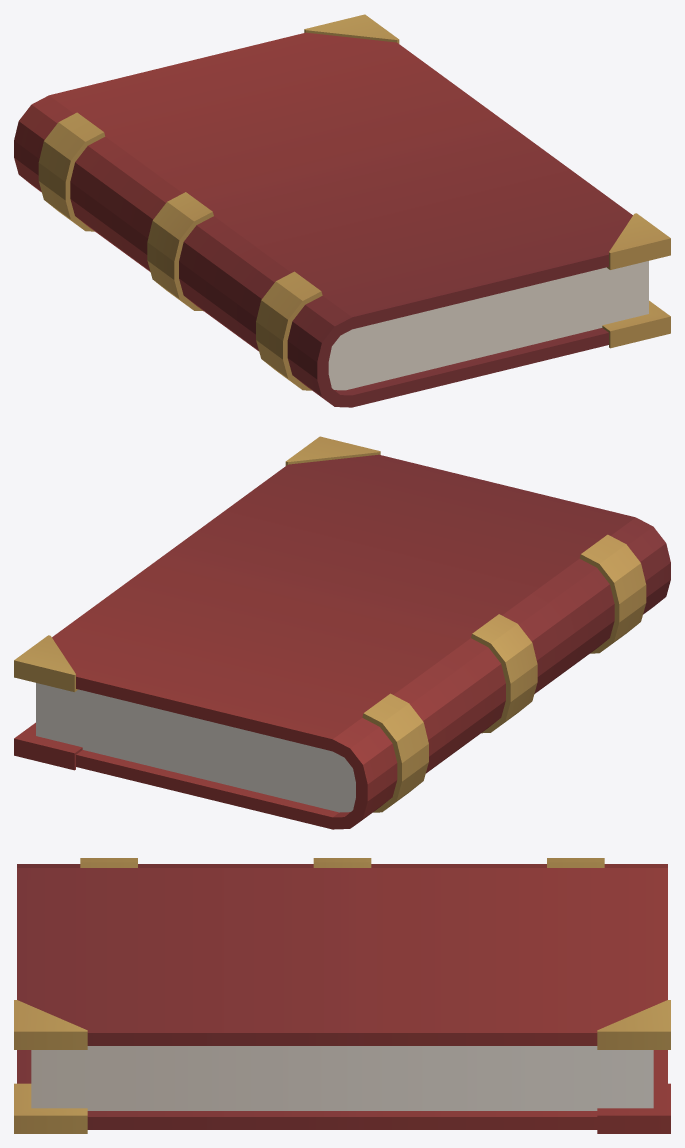
File: SM_Book_06.fbx
The picture shows the model from 3 angles, top to bottom: view 1: azimuth 30°, elevation 25°; view 2: azimuth 150°, elevation 25°; view 3: azimuth 270°, elevation 25°; orthographic projection. The views are drawn at different scales.
Visible parts, largest first — view 1: SM_Book_06; view 2: SM_Book_06; view 3: SM_Book_06.
Part boxes in pixels (x1=…): SM_Book_06: x1=14, y1=14, x2=670, y2=407; SM_Book_06: x1=14, y1=436, x2=670, y2=829; SM_Book_06: x1=14, y1=858, x2=670, y2=1133.
Bounding box in the file's own units: 15.3 × 4.09 × 22.7.
